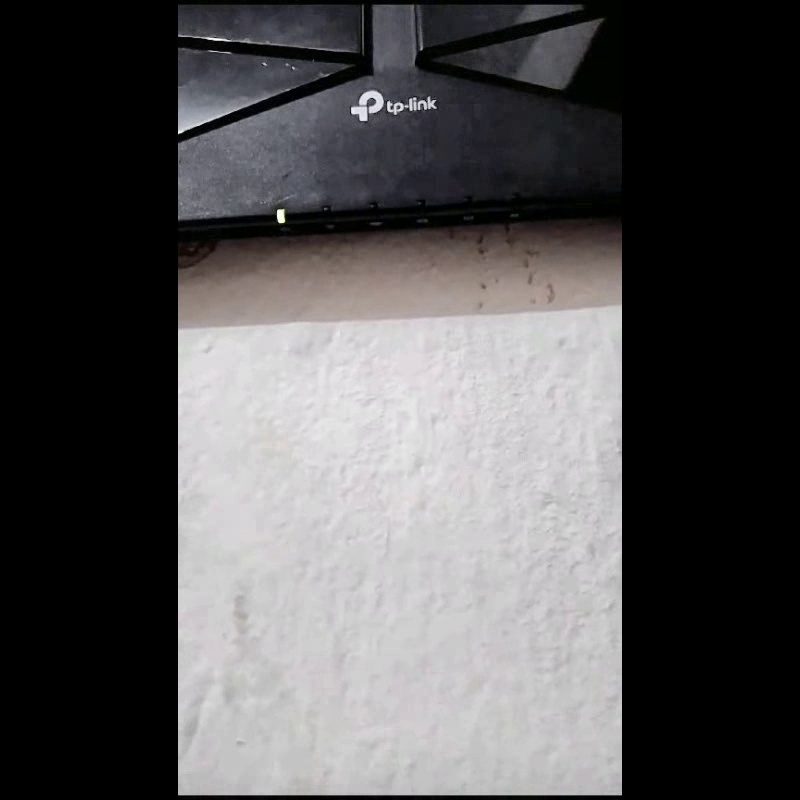off: (510, 190, 520, 211), (321, 202, 332, 220), (367, 200, 377, 217), (462, 194, 472, 211), (416, 197, 425, 214)
on_green: (275, 207, 286, 225)
